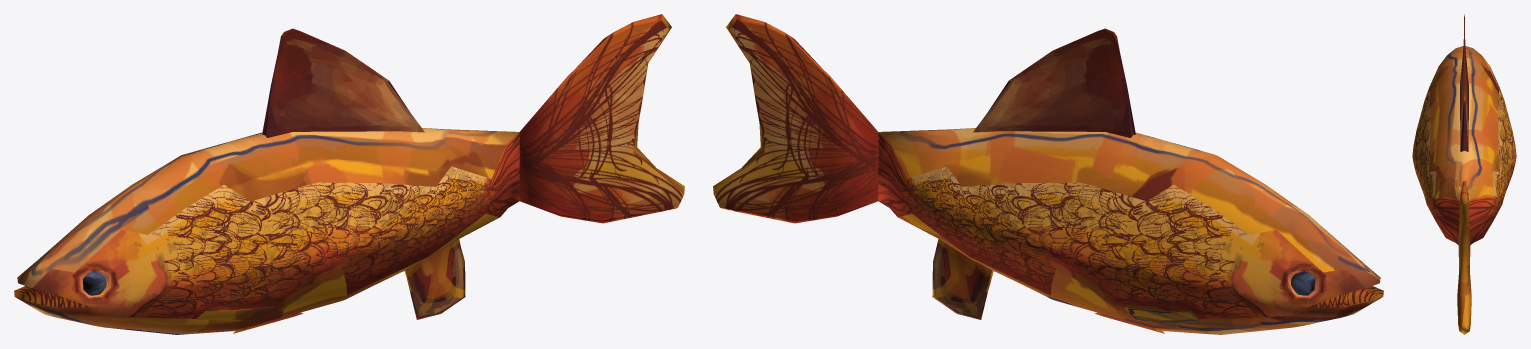
The model's file is feeshmodel.fbx.
3 views of the same model, side by side, from view 1: azimuth 30°, elevation 25°; view 2: azimuth 150°, elevation 25°; view 3: azimuth 270°, elevation 25° (orthographic). The views are drawn at different scales.
Visible parts, largest first — view 1: pSphere3; view 2: pSphere3; view 3: pSphere3.
Boxes of the visible parts, x1,y1,x2,y2 form: pSphere3: (14,14,684,334); pSphere3: (713,14,1383,334); pSphere3: (1412,14,1516,334).
Size of the model in its own units: 9.18 by 4.21 by 1.79.
1 material, 1 textured.
